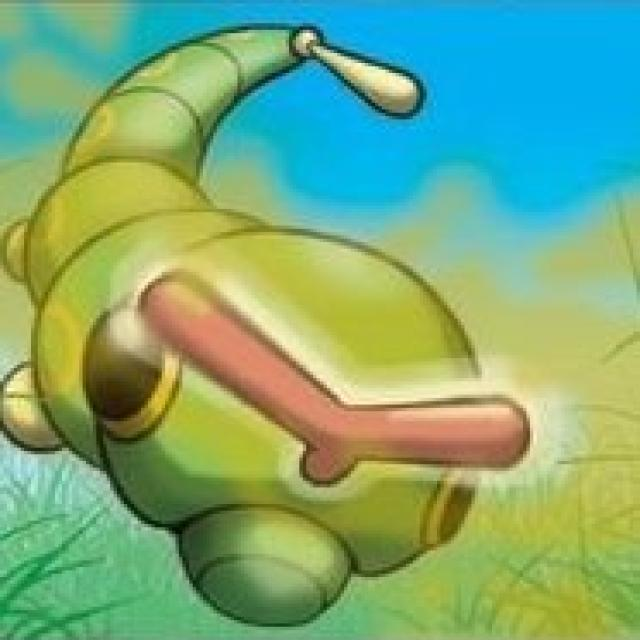Caterpie: (8, 152, 534, 620)
